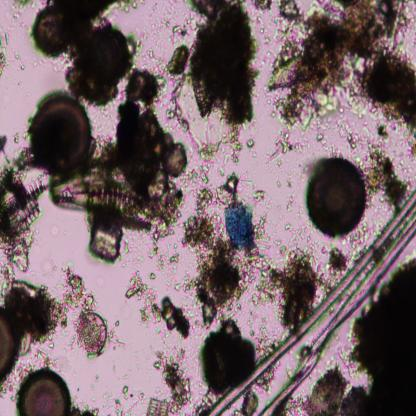Background material: (205, 189, 416, 409), (271, 0, 416, 138), (188, 0, 260, 127), (60, 1, 136, 101), (167, 77, 246, 159), (0, 263, 65, 340), (96, 101, 166, 172), (262, 244, 318, 330), (191, 242, 244, 322), (150, 176, 207, 233), (366, 141, 406, 207), (302, 368, 349, 414), (154, 352, 191, 410), (126, 271, 160, 323), (145, 3, 190, 42), (59, 265, 97, 311), (152, 298, 191, 339), (242, 244, 265, 306), (149, 229, 179, 275), (180, 215, 222, 247), (90, 231, 133, 261), (109, 381, 145, 415), (128, 70, 158, 110), (142, 44, 168, 87), (19, 345, 56, 372), (252, 186, 271, 238), (268, 186, 296, 219), (163, 141, 188, 177), (10, 240, 33, 274), (324, 246, 349, 276), (267, 134, 292, 163), (338, 128, 362, 157), (170, 43, 188, 78), (108, 318, 126, 350), (12, 1, 36, 25), (284, 222, 310, 244), (317, 132, 338, 157), (224, 173, 244, 198), (170, 271, 190, 294), (242, 390, 258, 414), (72, 399, 97, 414), (0, 37, 8, 77), (12, 49, 25, 72), (254, 1, 274, 15), (258, 22, 270, 43), (0, 133, 8, 154), (12, 132, 21, 146), (247, 139, 254, 150), (218, 166, 226, 175)
Diatom: (50, 168, 155, 231), (29, 92, 92, 171), (307, 156, 367, 236), (195, 317, 256, 385), (0, 178, 51, 239), (17, 369, 71, 415), (33, 5, 71, 58), (0, 148, 31, 192), (0, 305, 17, 383), (77, 312, 107, 356), (146, 398, 169, 416)
Fragment: (224, 201, 257, 250)
